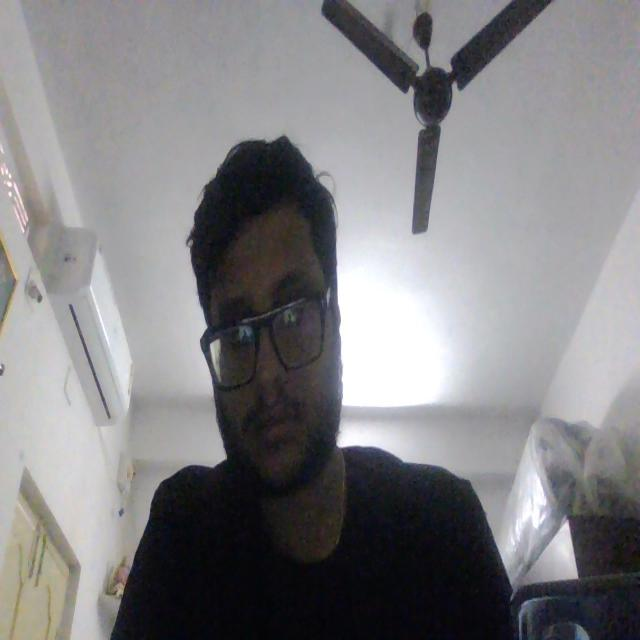phone: (507, 578, 639, 640)
